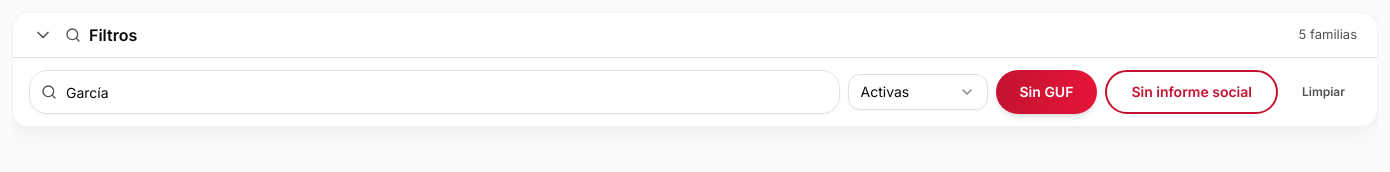
<FamiliasFilterBar /> › shows active-filter pills only when collapsed
The width and height of the screenshot is (1390, 172).
Click the button "Filtros 5 familias" at [113, 35], box [13, 13, 1377, 57]
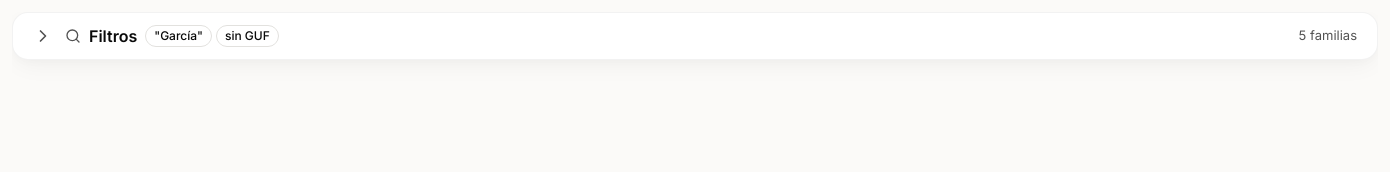
Expected: the text "sin GUF" is shown, [216, 25, 279, 47]
Result: the text "\"García\"" is shown at [145, 25, 212, 47]
